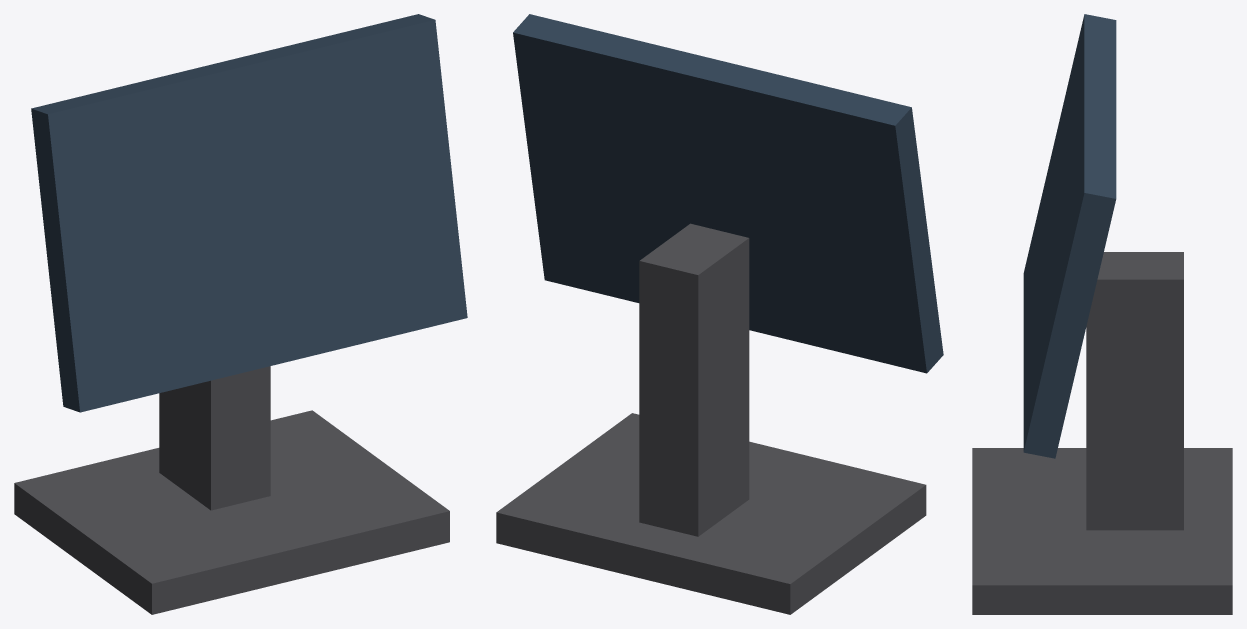
Rendered from POSTerminal.glb.
3 renders of one model, left to right at view 1: azimuth 30°, elevation 25°; view 2: azimuth 150°, elevation 25°; view 3: azimuth 270°, elevation 25°, orthographic. The views are drawn at different scales.
Visible parts, largest first — view 1: POSTerminal; view 2: POSTerminal; view 3: POSTerminal.
Boxes of the visible parts, <box> form: POSTerminal: <box>14,14,467,614</box>; POSTerminal: <box>496,14,943,614</box>; POSTerminal: <box>972,14,1232,614</box>.
Bounding box in the file's own units: 0.26 × 0.3001 × 0.16.
